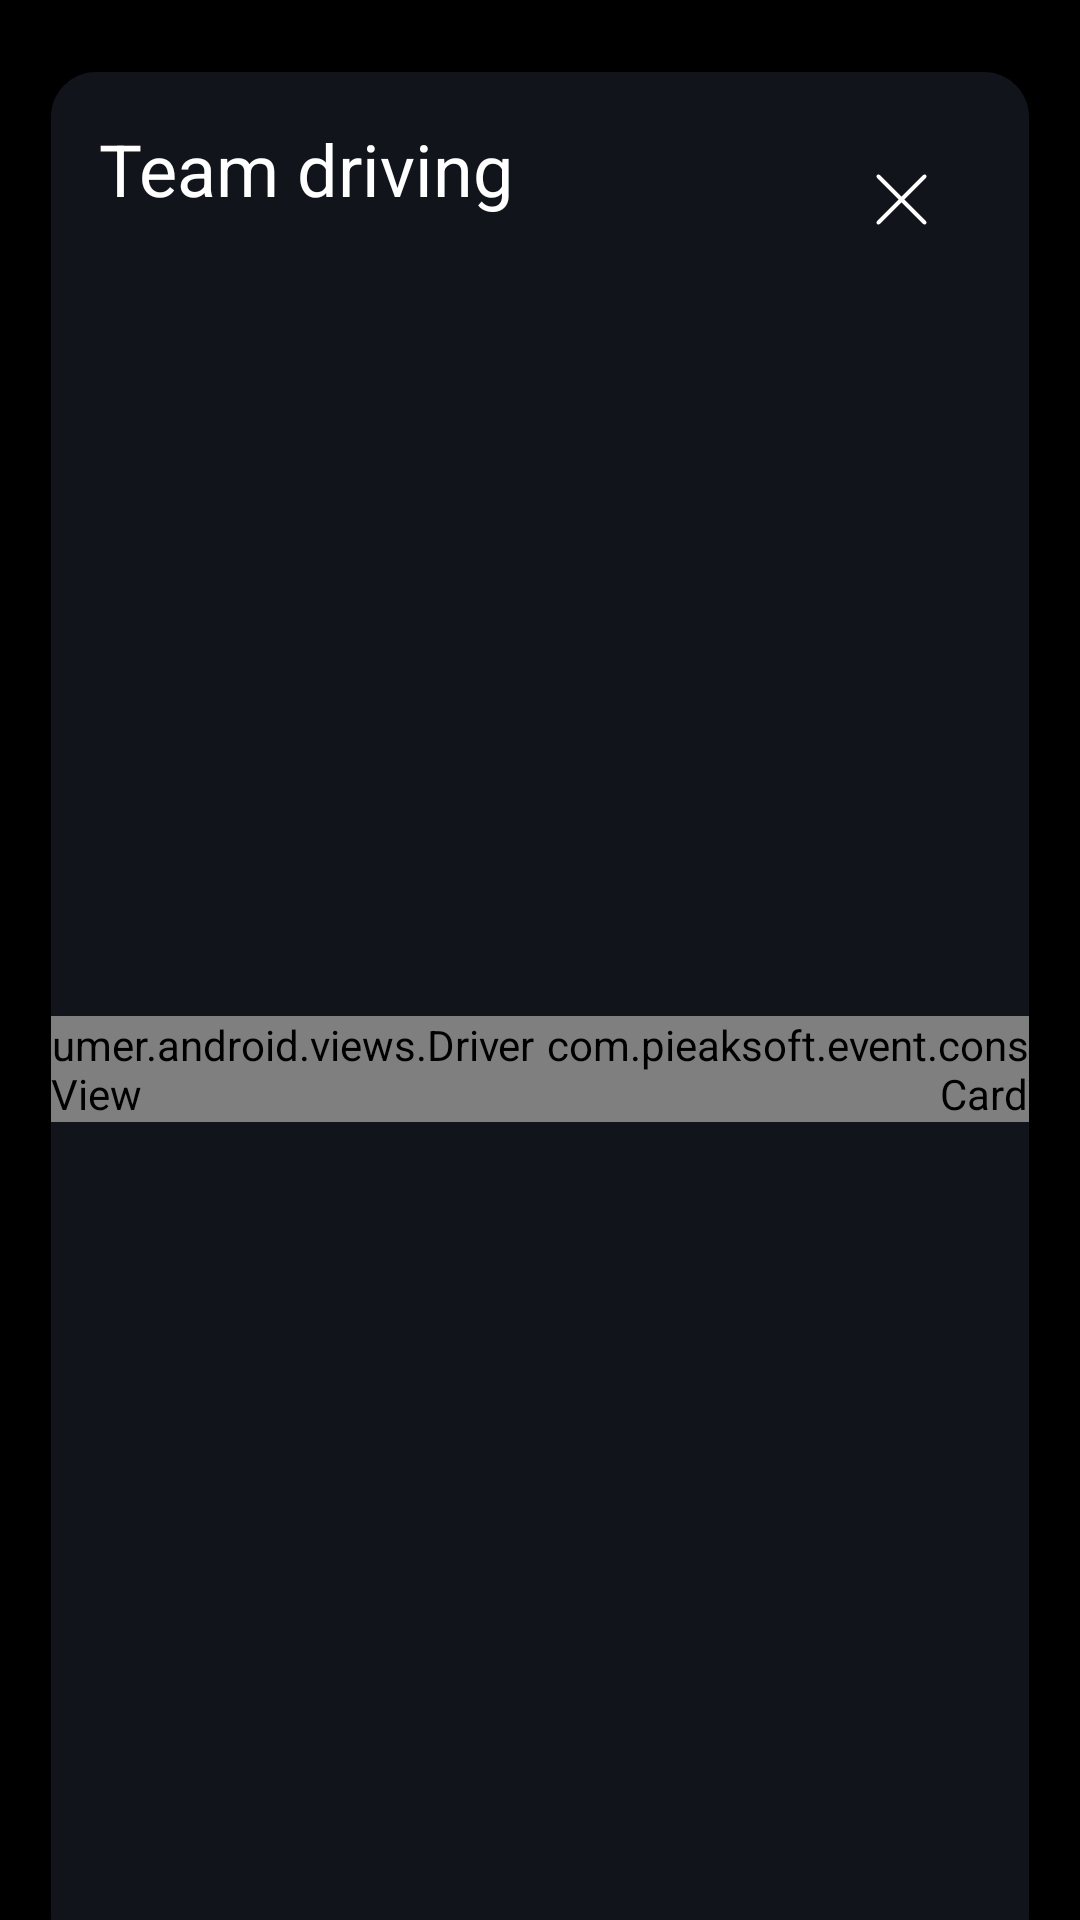

Icon bounding boxes for this 1080*1920 phone screenshot, format (x1, y1, x2, y2):
close: (876, 174, 927, 225)
